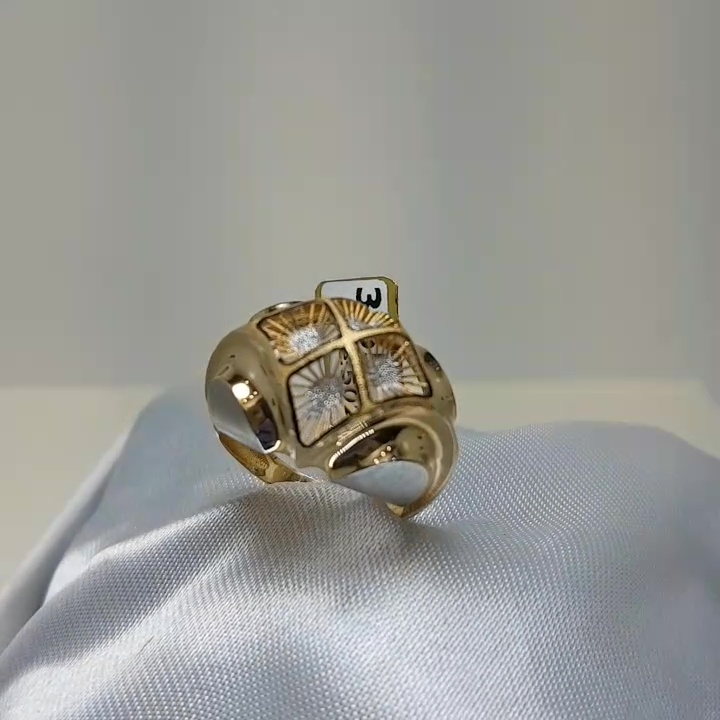Ring 2: (194, 282, 463, 535)
